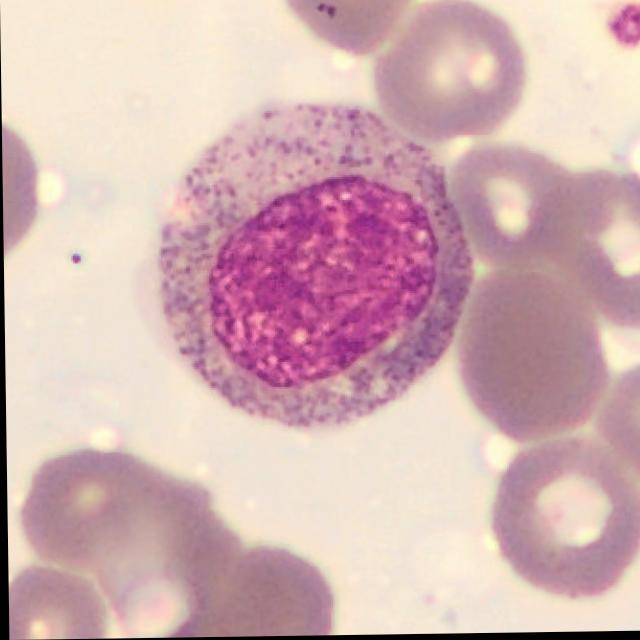Mielocito: (158, 104, 471, 430)
